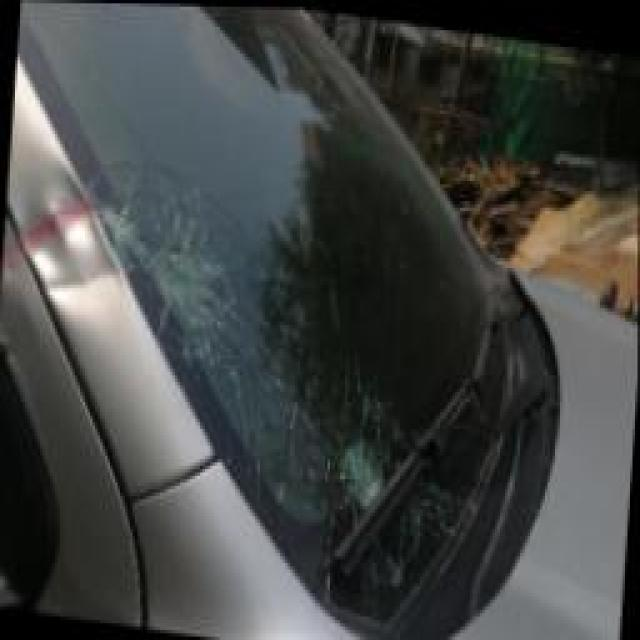Windshield: (20, 131, 437, 576)
